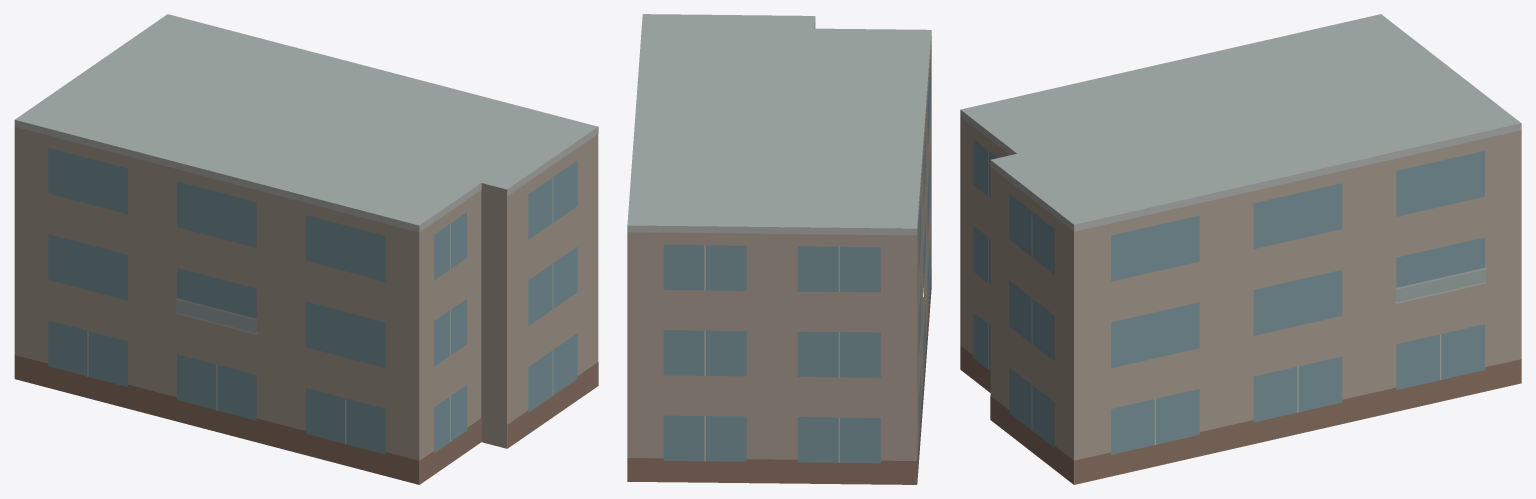
Rendered from survey-upis-32706526.glb.
3 views of the same model, side by side, from view 1: azimuth 30°, elevation 25°; view 2: azimuth 150°, elevation 25°; view 3: azimuth 270°, elevation 25° (orthographic).
Visible parts, largest first — view 1: survey-upis-32706526.tmp; view 2: survey-upis-32706526.tmp; view 3: survey-upis-32706526.tmp.
Boxes of the visible parts, x1,y1,x2,y2 form: survey-upis-32706526.tmp: (14,14,598,484); survey-upis-32706526.tmp: (627,14,931,484); survey-upis-32706526.tmp: (960,14,1521,484).
Bounding box in the file's own units: 15.92 × 9.15 × 17.91.
